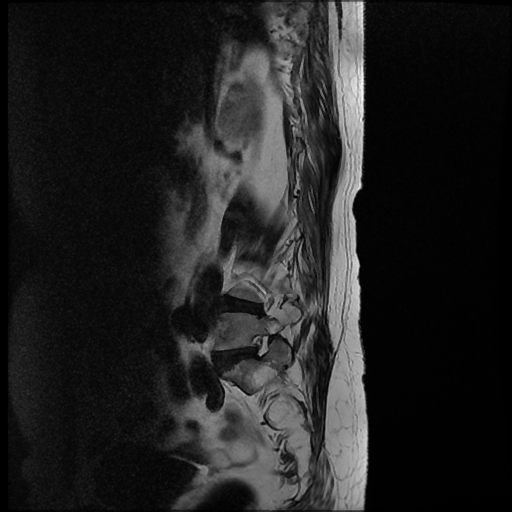RFS0: (243, 324, 277, 367)
